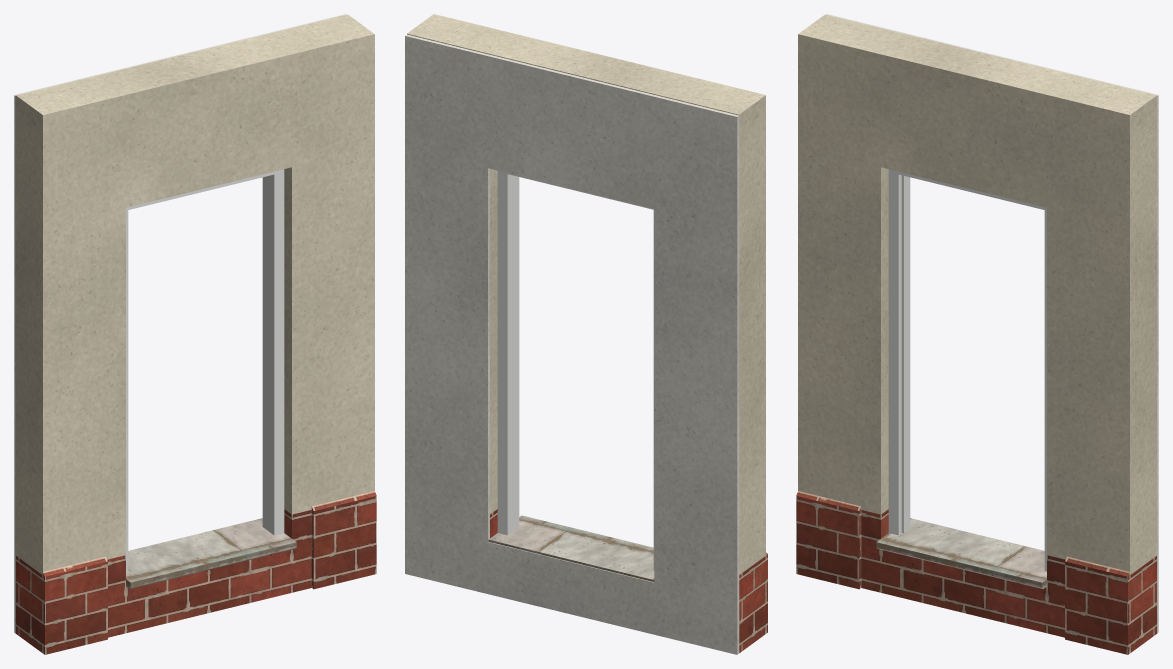
Rendered from w_g_din.glb.
The picture shows the model from 3 angles, left to right: view 1: azimuth 30°, elevation 25°; view 2: azimuth 150°, elevation 25°; view 3: azimuth 330°, elevation 25°; orthographic projection.
Visible parts, largest first — view 1: w_g_din_render, w_g_din_brick, w_g_din_frame, w_g_din_cill, w_g_din_plaster; view 2: w_g_din_plaster, w_g_din_render, w_g_din_frame, w_g_din_cill, w_g_din_brick; view 3: w_g_din_render, w_g_din_brick, w_g_din_frame, w_g_din_cill, w_g_din_plaster.
Boxes of the visible parts, <box> form: w_g_din_render: <box>16,14,374,574</box>; w_g_din_brick: <box>16,491,376,654</box>; w_g_din_frame: <box>126,169,284,571</box>; w_g_din_cill: <box>126,518,296,588</box>; w_g_din_plaster: <box>14,14,346,633</box>; w_g_din_plaster: <box>405,34,739,654</box>; w_g_din_render: <box>407,14,765,574</box>; w_g_din_frame: <box>497,171,654,570</box>; w_g_din_cill: <box>488,515,654,581</box>; w_g_din_brick: <box>490,509,767,652</box>; w_g_din_render: <box>798,14,1156,574</box>; w_g_din_brick: <box>796,491,1156,654</box>; w_g_din_frame: <box>888,169,1046,571</box>; w_g_din_cill: <box>876,518,1046,588</box>; w_g_din_plaster: <box>826,14,1158,633</box>.
Size of the model in its own units: 2 by 3.1 by 0.35.
5 materials, 4 textured.
